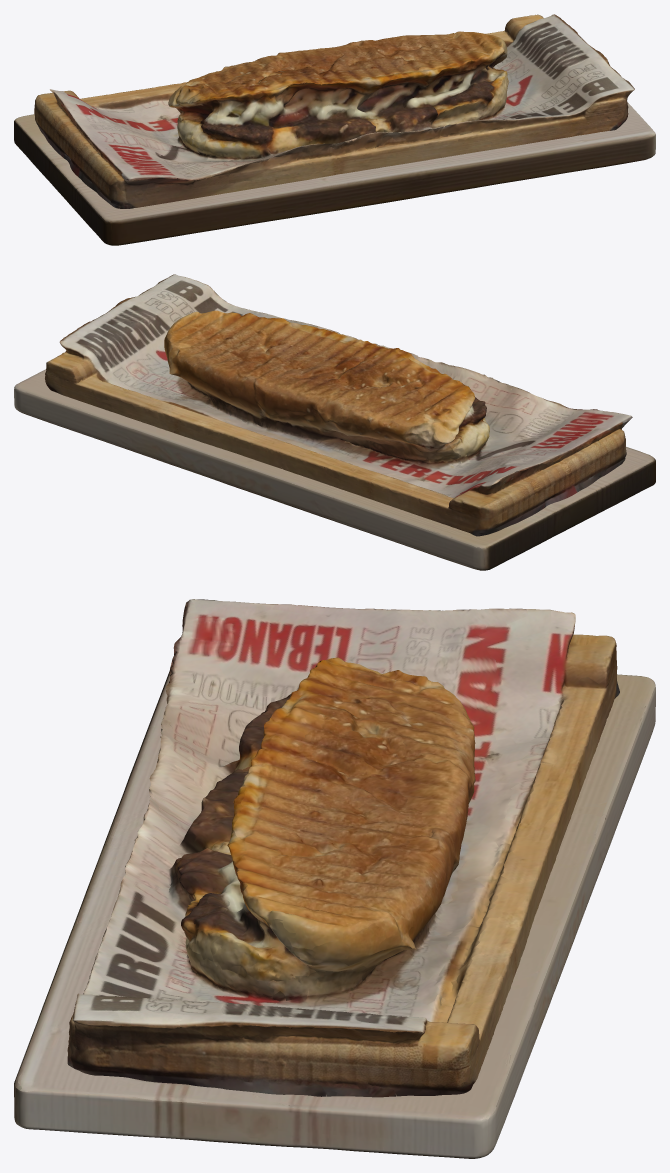
The model's file is Roast.beef.sandvich.glb.
3 views of the same model, one above another, from view 1: azimuth 30°, elevation 25°; view 2: azimuth 150°, elevation 25°; view 3: azimuth 270°, elevation 25° (orthographic). The views are drawn at different scales.
Visible parts, largest first — view 1: /Root/Scenes/Scene/Object_37/Object_38/Submesh_0, /Root/Scenes/Scene/Object_37/Object_41/Object_42/Submesh_0; view 2: /Root/Scenes/Scene/Object_37/Object_38/Submesh_0, /Root/Scenes/Scene/Object_37/Object_41/Object_42/Submesh_0; view 3: /Root/Scenes/Scene/Object_37/Object_38/Submesh_0, /Root/Scenes/Scene/Object_37/Object_41/Object_42/Submesh_0.
Part boxes in pixels (box(x1,y1,x2,y2)): /Root/Scenes/Scene/Object_37/Object_38/Submesh_0: box(34, 14, 634, 208); /Root/Scenes/Scene/Object_37/Object_41/Object_42/Submesh_0: box(14, 102, 655, 245); /Root/Scenes/Scene/Object_37/Object_38/Submesh_0: box(45, 274, 632, 536); /Root/Scenes/Scene/Object_37/Object_41/Object_42/Submesh_0: box(14, 369, 655, 570); /Root/Scenes/Scene/Object_37/Object_38/Submesh_0: box(67, 599, 619, 1097); /Root/Scenes/Scene/Object_37/Object_41/Object_42/Submesh_0: box(14, 670, 655, 1158).
Bounding box in the file's own units: 0.406 × 0.0668 × 0.2318.
Materials: 2 (2 with a texture image).
